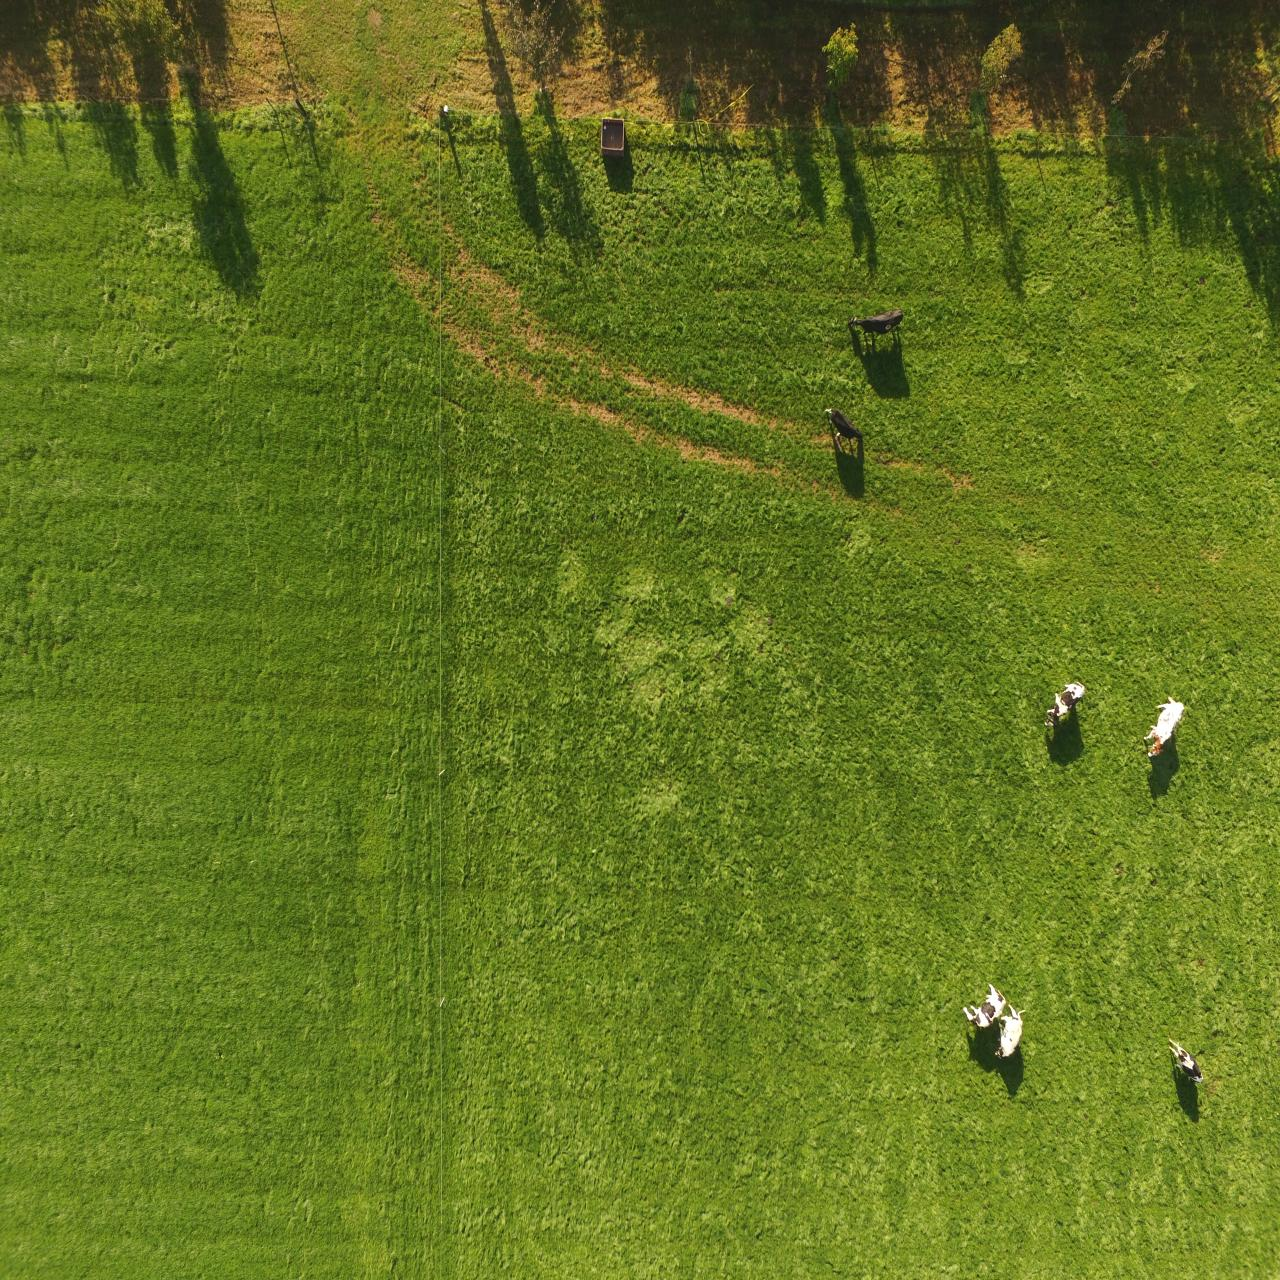cow: (1139, 686, 1197, 764), (959, 971, 1014, 1040), (1039, 670, 1087, 736), (840, 300, 911, 343), (993, 1000, 1035, 1068), (1165, 1036, 1211, 1088), (821, 400, 867, 448)
